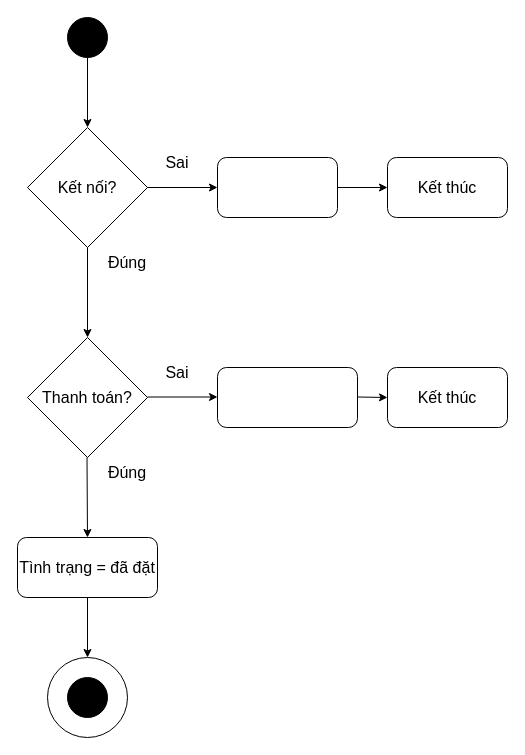
This 525x755 diagram has some shape labels left out. The shapes that lost their labels are listed below. From the top down, each one's centre as x and y in pixels, then its label:
the point at 277,187: Báo lỗi
the point at 287,397: Tình trạng = trống
